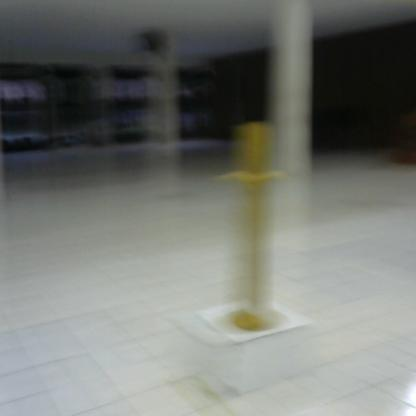pole: (216, 116, 300, 344)
